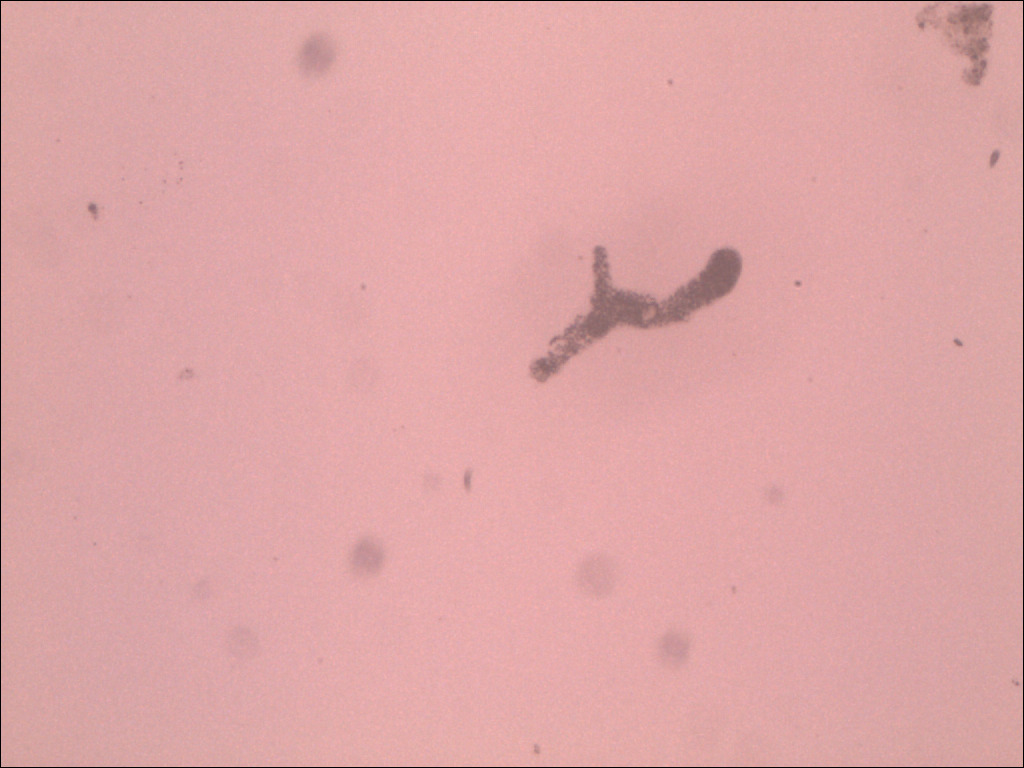amoeba: (520, 236, 759, 398)
